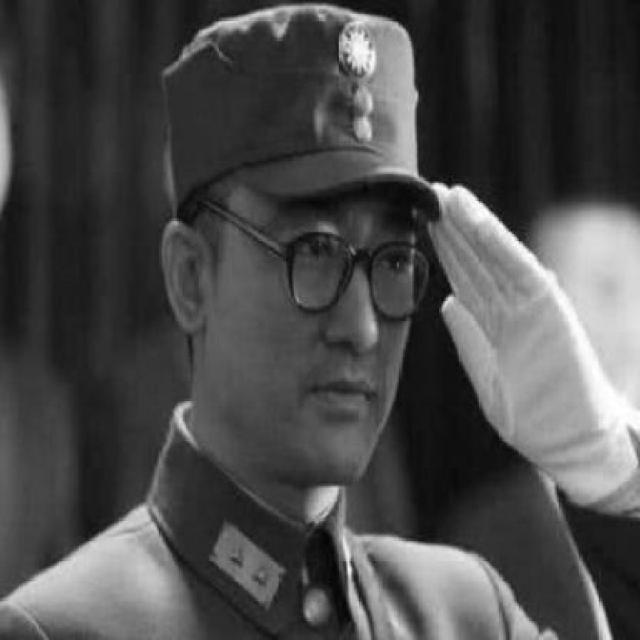face_nomask: (211, 194, 423, 489)
glasses: (279, 226, 433, 326)
hand_glove: (420, 175, 603, 463)
head_nohelmet: (152, 8, 486, 210)
person: (0, 14, 539, 640)
